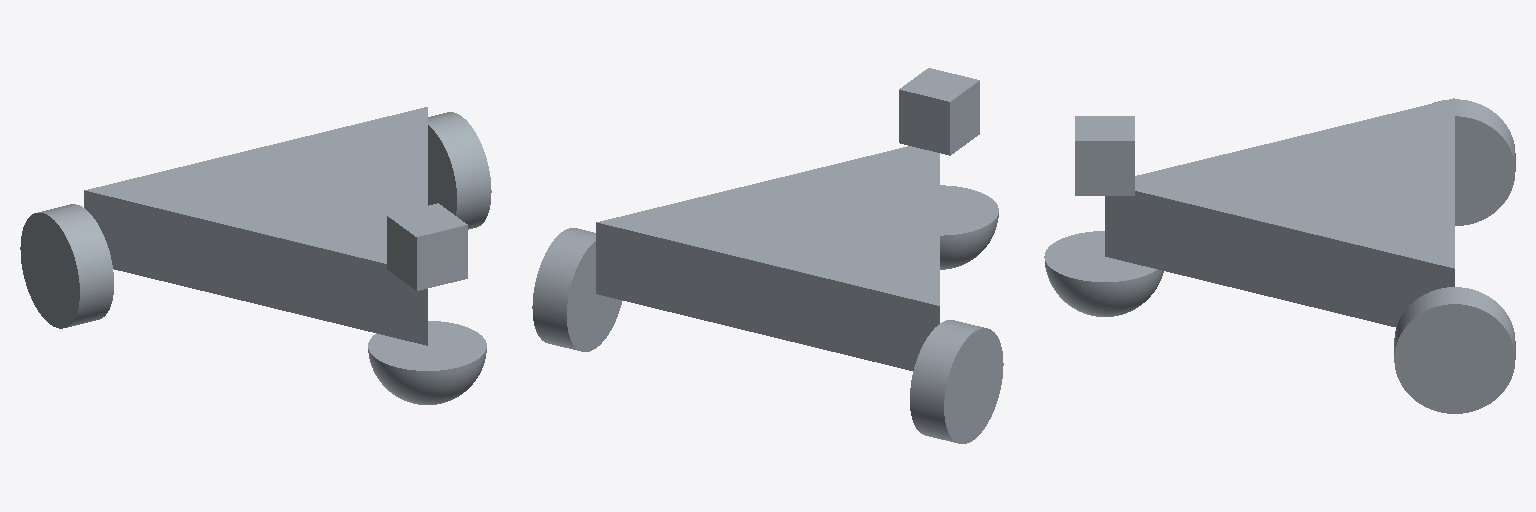
robot.urdf — Robot:
<?xml version="1.0" ?>
<robot name="Robot">
  <!--Generated by RobotCAD, a ROS Workbench for FreeCAD (https://github.com/drfenixion/freecad.robotcad)-->
  <link name="l_base">
    <visual>
      <!--base/Body001.-->
      <origin rpy="0 0 0" xyz="0.2 0.2 0.2"/>
      <geometry>
        <mesh filename="package://arrow_bot/meshes/unnamed1_body001_gbnjb2.dae"/>
      </geometry>
    </visual>
    <collision>
      <!--bound_obj__l_base__col_Part_col_obj/col_Part_col_obj.-->
      <origin rpy="0 0 0" xyz="0.2 0.2 0.2"/>
      <geometry>
        <mesh filename="package://arrow_bot/meshes/unnamed1_col_part_col_obj_zrlse1.dae"/>
      </geometry>
    </collision>
    <inertial>
      <mass value="0.1073871500692704"/>
      <origin rpy="0 0 0" xyz="0.2 0.214434 0.21"/>
      <inertia ixx="4.8324218771171684e-05" ixy="6.565532622966647e-21" ixz="-4.330649971961955e-22" iyy="4.832421877117168e-05" iyz="-4.619359970092773e-21" izz="8.948929296439197e-05"/>
    </inertial>
  </link>
  <link name="l_cam">
    <visual>
      <!--cam/Body.-->
      <origin rpy="0 0 0" xyz="0.0 0.0 0.0"/>
      <geometry>
        <mesh filename="package://arrow_bot/meshes/unnamed1_body_nh6vu6.dae"/>
      </geometry>
    </visual>
    <collision>
      <!--bound_obj__l_cam__col_Part004__BoundBox/col_Part004__BoundBox.-->
      <origin rpy="0 0 0" xyz="0.0 0.0 0.0075"/>
      <geometry>
        <box size="0.015 0.015 0.015"/>
      </geometry>
    </collision>
    <inertial>
      <mass value="0.004185"/>
      <origin rpy="0 0 0" xyz="0.0 0.0 0.0075"/>
      <inertia ixx="1.5693873999999998e-07" ixy="6.195044477408373e-26" ixz="3.0975222387041927e-26" iyy="1.5693873999999998e-07" iyz="-5.00832011506716e-40" izz="1.5693873999999998e-07"/>
    </inertial>
  </link>
  <link name="l_caster">
    <visual>
      <!--caster/Body002.-->
      <origin rpy="0 0 0" xyz="0.0 0.0 0.0"/>
      <geometry>
        <mesh filename="package://arrow_bot/meshes/unnamed1_body002_hrqg86.dae"/>
      </geometry>
    </visual>
    <collision>
      <!--bound_obj__l_caster__col_Part003__BoundSphere/col_Part003__BoundSphere.-->
      <origin rpy="0 0 0" xyz="0.0 0.0 -0.00049"/>
      <geometry>
        <sphere radius="0.015"/>
      </geometry>
    </collision>
    <inertial>
      <mass value="0.008765043503515525"/>
      <origin rpy="0 0 0" xyz="0.0 0.0 -0.005625"/>
      <inertia ixx="5.115237007129761e-07" ixy="-2.083446013041247e-24" ixz="-8.201431337771698e-23" iyy="5.115237007129763e-07" iyz="1.1401278480440854e-22" izz="7.888551553163972e-07"/>
    </inertial>
  </link>
  <link name="l_wheel1">
    <visual>
      <!--wheel1/Body004.-->
      <origin rpy="-1.5707963267948963 -1.5707963267948954 0" xyz="0.0 0.0 0.0"/>
      <geometry>
        <mesh filename="package://arrow_bot/meshes/unnamed1_body004_dpxzii.dae"/>
      </geometry>
    </visual>
    <collision>
      <!--bound_obj__l_wheel1__col_Part001__BoundCylinder/col_Part001__BoundCylinder.-->
      <origin rpy="0 0 -1.5707963267948963" xyz="0.0 0.0 0.005"/>
      <geometry>
        <cylinder length="0.01" radius="0.015"/>
      </geometry>
    </collision>
    <inertial>
      <mass value="0.008765043503515526"/>
      <origin rpy="-1.5707963267948963 -1.5707963267948954 0" xyz="0.0 0.0 0.005"/>
      <inertia ixx="9.86068634145502e-07" ixy="3.9472070056945086e-23" ixz="2.0265018226493866e-22" iyy="5.660769662687083e-07" iyz="2.2857051418294765e-22" izz="5.660769662687189e-07"/>
    </inertial>
  </link>
  <link name="l_wheel2">
    <visual>
      <!--wheel2/Body003.-->
      <origin rpy="-1.5707963267948963 -1.5707963267948963 0" xyz="0.0 0.0 -0.01"/>
      <geometry>
        <mesh filename="package://arrow_bot/meshes/unnamed1_body003_zutwbk.dae"/>
      </geometry>
    </visual>
    <collision>
      <!--bound_obj__l_wheel2__col_Part002__BoundCylinder/col_Part002__BoundCylinder.-->
      <origin rpy="0 0 -1.5707963267948963" xyz="0.0 0.0 -0.005"/>
      <geometry>
        <cylinder length="0.01" radius="0.015"/>
      </geometry>
    </collision>
    <inertial>
      <mass value="0.008765043503515526"/>
      <origin rpy="-1.5707963267948963 -1.5707963267948963 0" xyz="0.0 0.0 -0.005"/>
      <inertia ixx="9.86068634145502e-07" ixy="3.9472070056945086e-23" ixz="2.0265018226493866e-22" iyy="5.660769662687083e-07" iyz="2.2857051418294765e-22" izz="5.660769662687189e-07"/>
    </inertial>
  </link>
  <joint name="l_base__to__l_wheel1" type="continuous">
    <parent link="l_base"/>
    <child link="l_wheel1"/>
    <origin rpy="-1.5707963267948966 0 -1.5707963267948966" xyz="0.25 0.243301 0.2"/>
    <axis xyz="0 0 1"/>
  </joint>
  <joint name="l_base__to__l_wheel2" type="continuous">
    <parent link="l_base"/>
    <child link="l_wheel2"/>
    <origin rpy="-1.5707963267948966 0 -1.5707963267948966" xyz="0.15 0.243301 0.2"/>
    <axis xyz="0 0 1"/>
  </joint>
  <joint name="l_base__to__l_cam" type="fixed">
    <parent link="l_base"/>
    <child link="l_cam"/>
    <origin rpy="0 0 -1.570796326794897" xyz="0.2 0.156699 0.22"/>
  </joint>
  <joint name="l_base__to__l_caster" type="fixed">
    <parent link="l_base"/>
    <child link="l_caster"/>
    <origin rpy="0 0 -1.570796326794897" xyz="0.2 0.156699 0.2"/>
  </joint>
</robot>

--- Facts derived from the render (not from the file) ---
Views: 3 orthographic renders of the robot side by side, from view 1: azimuth 30°, elevation 25°; view 2: azimuth 150°, elevation 25°; view 3: azimuth 270°, elevation 25°.
Robot: Robot — 5 links, 4 joints (2 continuous, 2 fixed); root link l_base; default pose: all joints at 0.
Visible links, largest first — view 1: l_base, l_wheel2, l_caster, l_cam, l_wheel1; view 2: l_base, l_wheel2, l_wheel1, l_cam, l_caster; view 3: l_base, l_wheel1, l_caster, l_wheel2, l_cam.
Link boxes in pixels (x1,y1,x2,y2): l_base: (84,107,427,345); l_wheel2: (20,204,113,328); l_caster: (368,321,486,404); l_cam: (387,203,467,290); l_wheel1: (428,112,491,229); l_base: (596,146,939,370); l_wheel2: (910,320,1003,443); l_wheel1: (532,228,621,351); l_cam: (899,68,979,155); l_caster: (940,185,998,269); l_base: (1105,98,1454,326); l_wheel1: (1394,287,1515,413); l_caster: (1044,231,1163,316); l_wheel2: (1432,99,1515,225); l_cam: (1075,116,1134,195).
Bounding box of the posed robot: 0.12 × 0.1166 × 0.05 m (x, y, z).
Meshes: 5 distinct files referenced, 5 mesh visuals loaded (5 Collada DAE).
